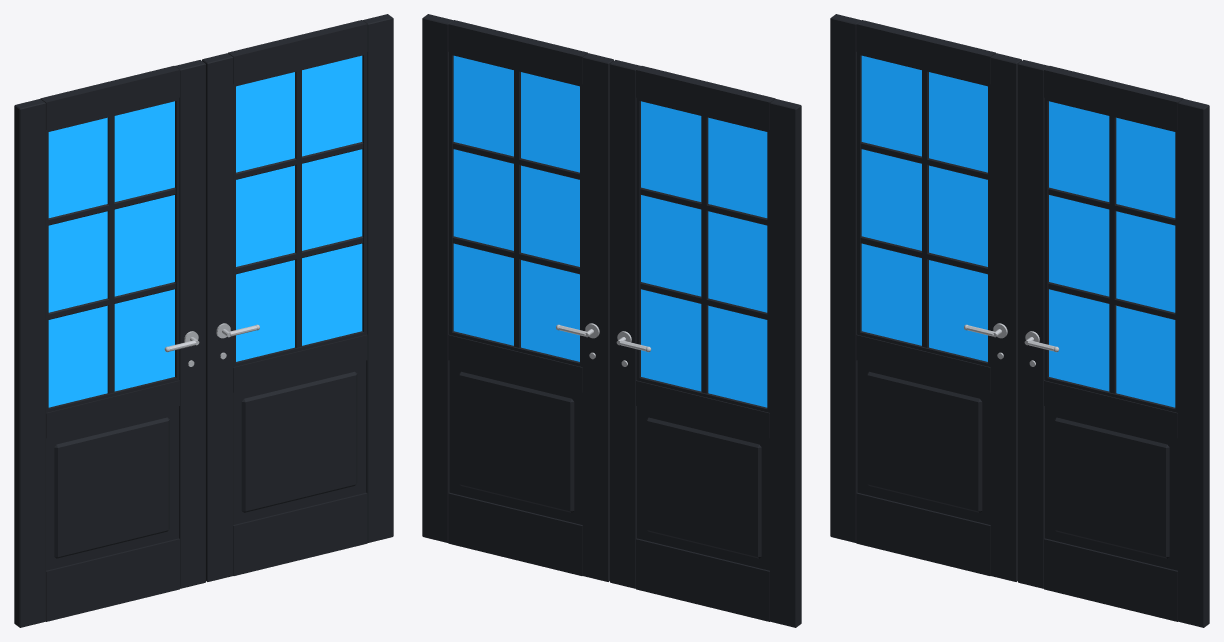
Rendered from porta_dupla_vidro_6_preta.glb.
3 views of the same model, side by side, from view 1: azimuth 30°, elevation 25°; view 2: azimuth 150°, elevation 25°; view 3: azimuth 330°, elevation 25° (orthographic).
Parts seen in each view (by area): view 1: porta_dupla_vidro_6_preta; view 2: porta_dupla_vidro_6_preta; view 3: porta_dupla_vidro_6_preta.
Boxes of the visible parts, <box> form: porta_dupla_vidro_6_preta: <box>14,14,393,627</box>; porta_dupla_vidro_6_preta: <box>422,14,801,627</box>; porta_dupla_vidro_6_preta: <box>830,14,1209,627</box>.
Bounding box in the file's own units: 1.56 × 2.07 × 0.143.
